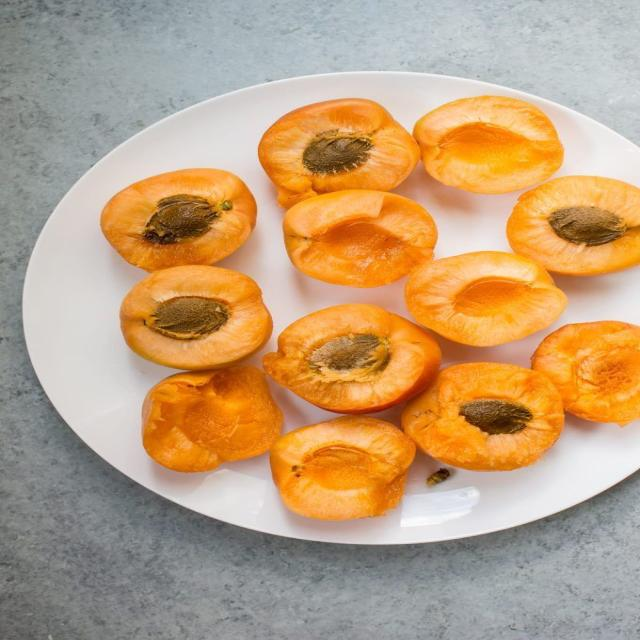kayisi: (263, 304, 441, 415), (400, 363, 568, 474), (259, 99, 421, 200), (101, 169, 256, 272), (120, 267, 273, 370), (406, 252, 567, 349), (413, 95, 566, 197), (282, 191, 439, 290), (269, 419, 418, 523), (142, 366, 284, 473), (506, 176, 640, 278), (531, 321, 640, 429)
kayisicekirdegi: (146, 297, 230, 338), (143, 198, 211, 244), (309, 336, 385, 374), (554, 207, 625, 241), (460, 399, 531, 433), (307, 137, 370, 170)
